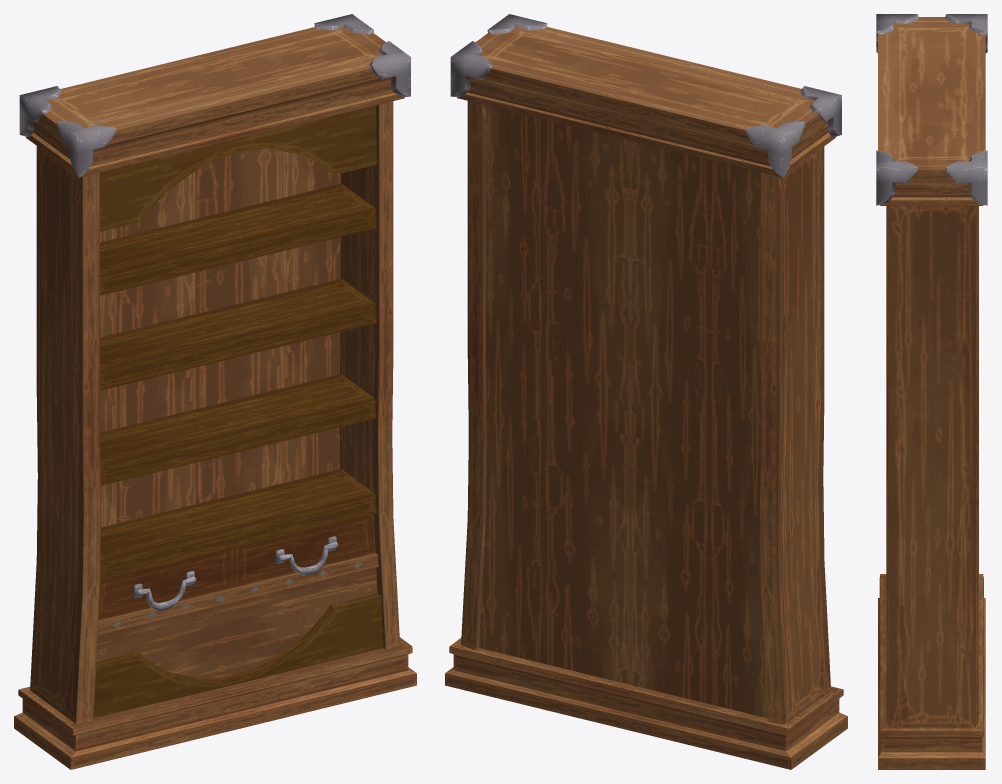
File: Bookcase_2.gltf
3 views of the same model, side by side, from view 1: azimuth 30°, elevation 25°; view 2: azimuth 150°, elevation 25°; view 3: azimuth 270°, elevation 25° (orthographic). The views are drawn at different scales.
Parts seen in each view (by area): view 1: Bookcase_2; view 2: Bookcase_2; view 3: Bookcase_2.
Boxes of the visible parts, x1,y1,x2,y2 form: Bookcase_2: (14,14,416,769); Bookcase_2: (445,14,847,769); Bookcase_2: (876,14,987,769).
Size of the model in its own units: 1.46 by 2.54 by 0.429.
Materials: 2 (2 with a texture image).
